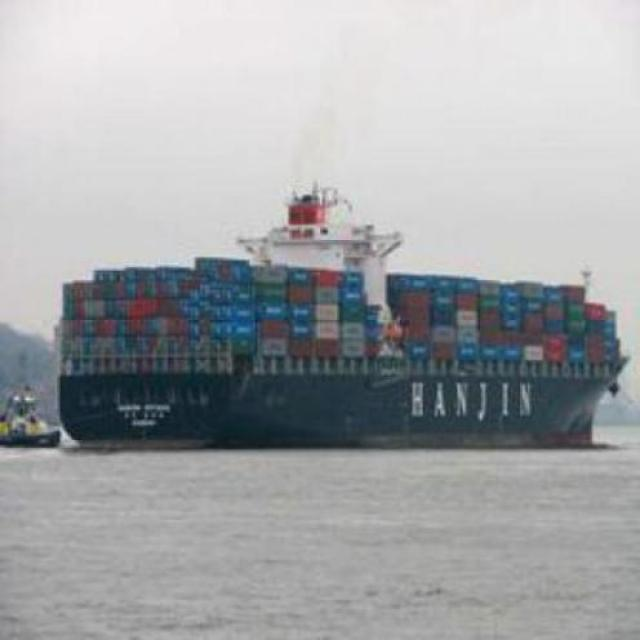boat: (36, 234, 631, 446)
